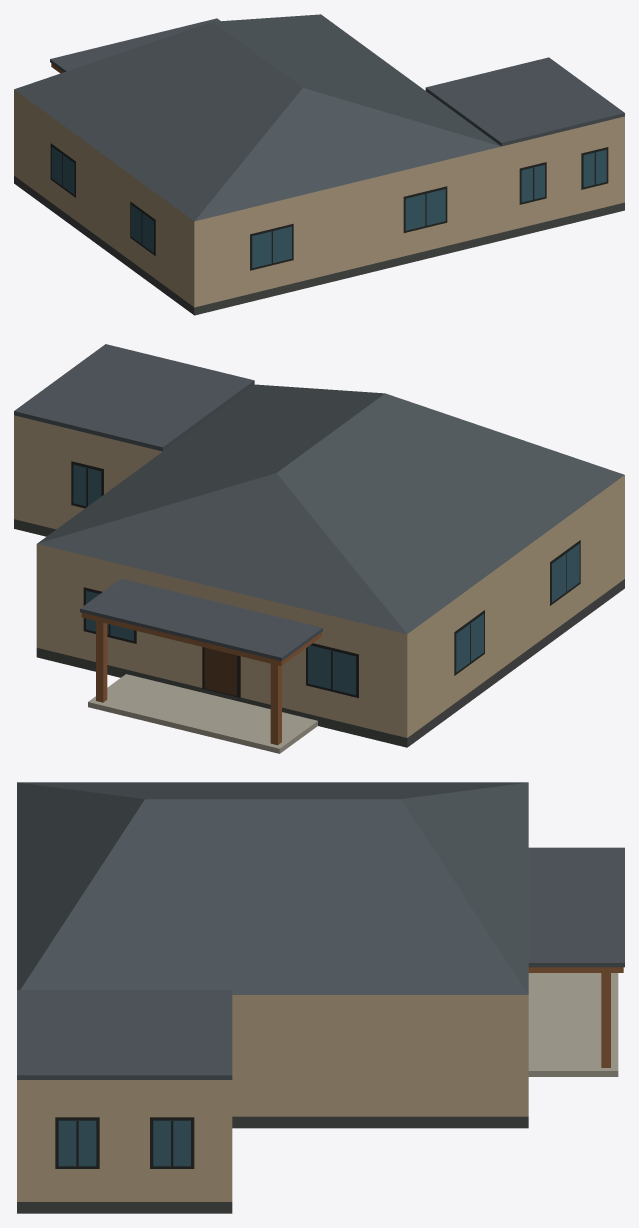
3 views of the same model, one above another, from view 1: azimuth 30°, elevation 25°; view 2: azimuth 150°, elevation 25°; view 3: azimuth 270°, elevation 25° (orthographic). The views are drawn at different scales.
Size of the model in its own units: 15.84 by 5.48 by 13.62.
